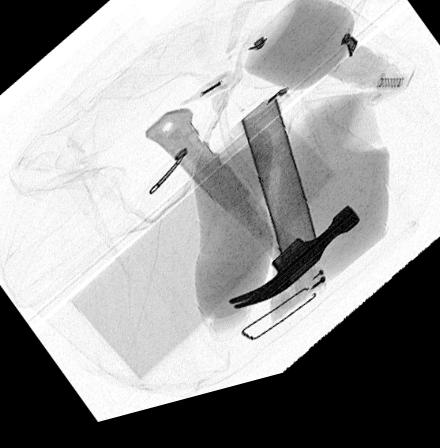Hammer: (145, 120, 361, 321)
